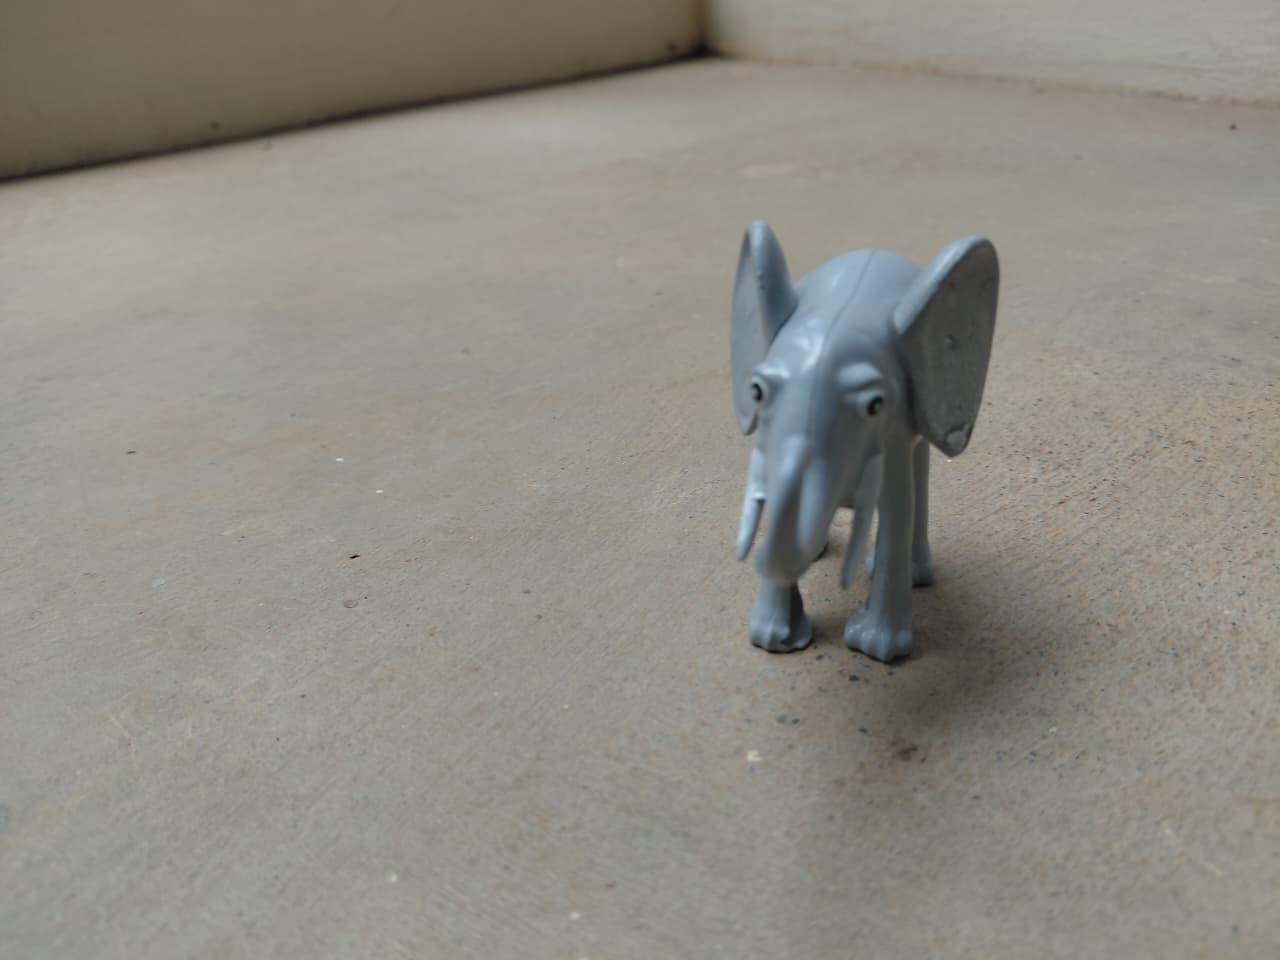elephant: (708, 197, 1005, 691)
